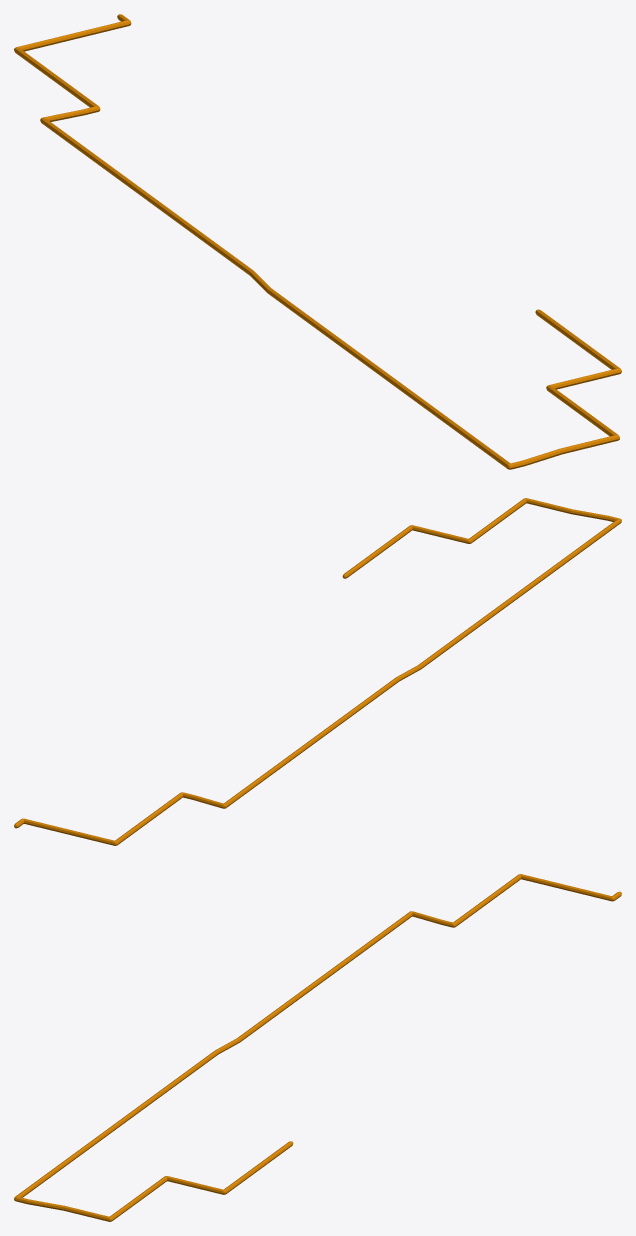
3 views of the same model, one above another, from view 1: azimuth 30°, elevation 25°; view 2: azimuth 150°, elevation 25°; view 3: azimuth 330°, elevation 25° (orthographic). The views are drawn at different scales.
Size of the model in its own units: 666 by 20 by 3494.
